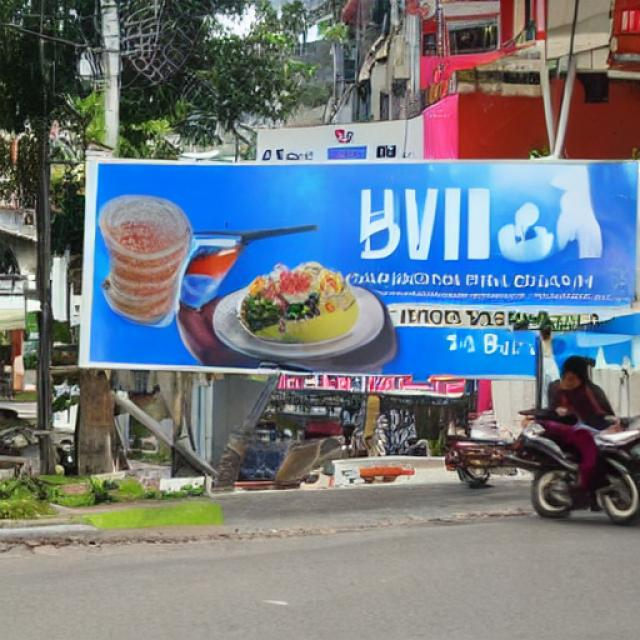Billboard: (77, 154, 640, 373)
